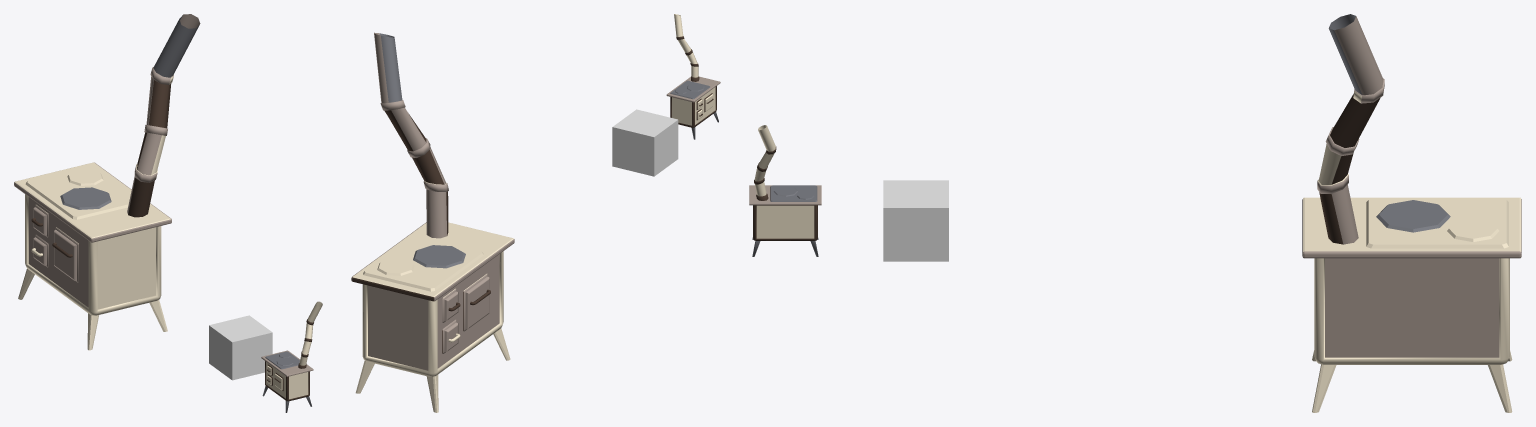
Rendered from masina.fbx.
3 views of the same model, side by side, from view 1: azimuth 30°, elevation 25°; view 2: azimuth 150°, elevation 25°; view 3: azimuth 270°, elevation 25° (orthographic). The views are drawn at different scales.
Parts seen in each view (by area): view 1: Cube.006, Circle.008, size ref, Cube.007, Plane.001, Cube.010, Cube, Circle.010, Cube.009, Circle, Circle.009, Cube.002 (+2 smaller); view 2: Cube.006, Circle.008, size ref, Cube.007, Plane.001, Cube.010, Cube, Circle.010, Cube.009, Circle, Circle.009, Cube.011 (+2 smaller); view 3: Cube.006, Circle.008, size ref, Cube.007, Plane.001, Cube, Circle.010, Cube.009, Circle.009, Circle.
Boxes of the visible parts, left/top/right/bottom form: Cube.006: left=25, top=194, right=161, bottom=315; Circle.008: left=127, top=14, right=200, bottom=217; size ref: left=209, top=315, right=272, bottom=380; Cube.007: left=14, top=162, right=171, bottom=242; Plane.001: left=25, top=165, right=130, bottom=219; Cube.010: left=54, top=227, right=78, bottom=282; Cube: left=265, top=361, right=309, bottom=401; Circle.010: left=60, top=187, right=111, bottom=209; Cube.009: left=18, top=269, right=167, bottom=350; Circle: left=298, top=301, right=322, bottom=368; Circle.009: left=67, top=169, right=103, bottom=185; Cube.002: left=261, top=350, right=313, bottom=376; Cube.006: left=362, top=251, right=503, bottom=376; Circle.008: left=374, top=32, right=448, bottom=238; size ref: left=612, top=109, right=678, bottom=176; Cube.007: left=351, top=222, right=514, bottom=301; Plane.001: left=363, top=235, right=483, bottom=291; Cube.010: left=463, top=273, right=489, bottom=331; Cube: left=670, top=86, right=716, bottom=127; Circle.010: left=413, top=245, right=465, bottom=268; Cube.009: left=355, top=328, right=510, bottom=412; Circle: left=674, top=14, right=699, bottom=81; Circle.009: left=377, top=259, right=414, bottom=275; Cube.011: left=442, top=319, right=458, bottom=353; Cube.006: left=1314, top=258, right=1509, bottom=364; Circle.008: left=1317, top=14, right=1384, bottom=244; size ref: left=883, top=180, right=948, bottom=261; Cube.007: left=1302, top=197, right=1521, bottom=258; Plane.001: left=1366, top=198, right=1508, bottom=248; Cube: left=753, top=205, right=817, bottom=240; Circle.010: left=1376, top=200, right=1450, bottom=232; Cube.009: left=1312, top=350, right=1512, bottom=412; Circle.009: left=1447, top=218, right=1498, bottom=241; Circle: left=754, top=125, right=776, bottom=200.
Size of the model in its own units: 322 by 703 by 1177.
